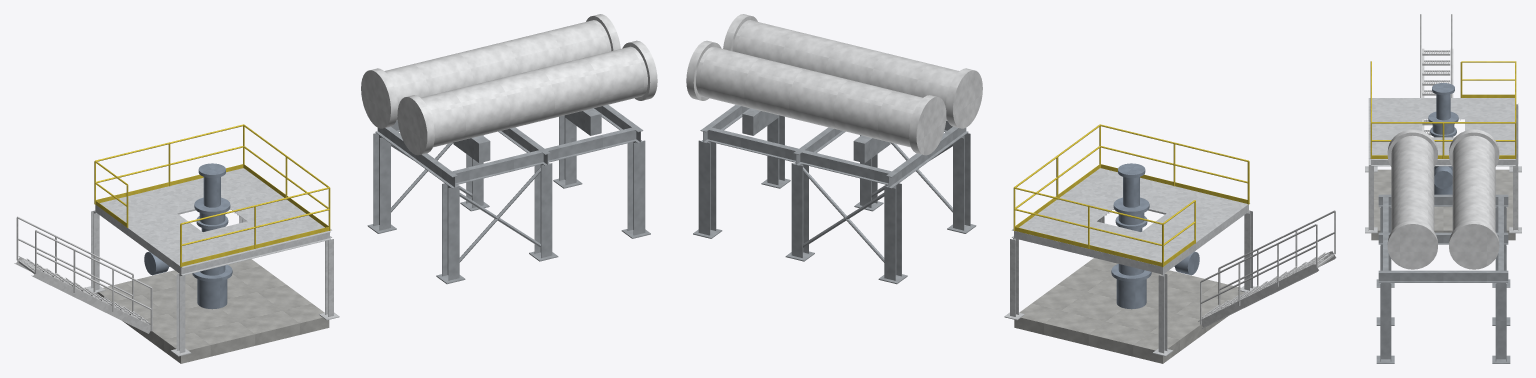
File: geothermal-wellhead-platforms-and-hx-supports.glb
3 renders of one model, left to right at view 1: azimuth 30°, elevation 25°; view 2: azimuth 150°, elevation 25°; view 3: azimuth 270°, elevation 25°, orthographic. The views are drawn at different scales.
Visible parts, largest first — view 1: HeatExchangers(context), HeatExchangerSupportFrame, WellheadAccessPlatform, CellarDeck(context), Handrails, AccessStair, Wellhead(context); view 2: HeatExchangers(context), HeatExchangerSupportFrame, WellheadAccessPlatform, CellarDeck(context), Handrails, AccessStair, Wellhead(context); view 3: HeatExchangers(context), WellheadAccessPlatform, HeatExchangerSupportFrame, CellarDeck(context), Wellhead(context), Handrails, AccessStair.
Boxes of the visible parts, x1,y1,x2,y2 form: HeatExchangers(context): (361,14,657,155); HeatExchangerSupportFrame: (367,105,650,284); WellheadAccessPlatform: (86,168,339,356); CellarDeck(context): (97,259,329,363); Handrails: (94,124,330,267); AccessStair: (14,216,152,333); Wellhead(context): (144,163,232,309); HeatExchangers(context): (686,14,982,155); HeatExchangerSupportFrame: (693,104,976,284); WellheadAccessPlatform: (1004,168,1255,356); CellarDeck(context): (1014,258,1244,363); Handrails: (1013,124,1249,267); AccessStair: (1198,210,1336,328); Wellhead(context): (1111,163,1199,309); HeatExchangers(context): (1387,129,1499,269); WellheadAccessPlatform: (1365,98,1521,233); HeatExchangerSupportFrame: (1376,194,1510,363); CellarDeck(context): (1371,169,1515,240); Wellhead(context): (1428,83,1458,194); Handrails: (1370,61,1516,158); AccessStair: (1420,14,1453,135).
Bounding box in the file's own units: 16.28 × 4.75 × 4.35.
7 materials, 7 textured.
